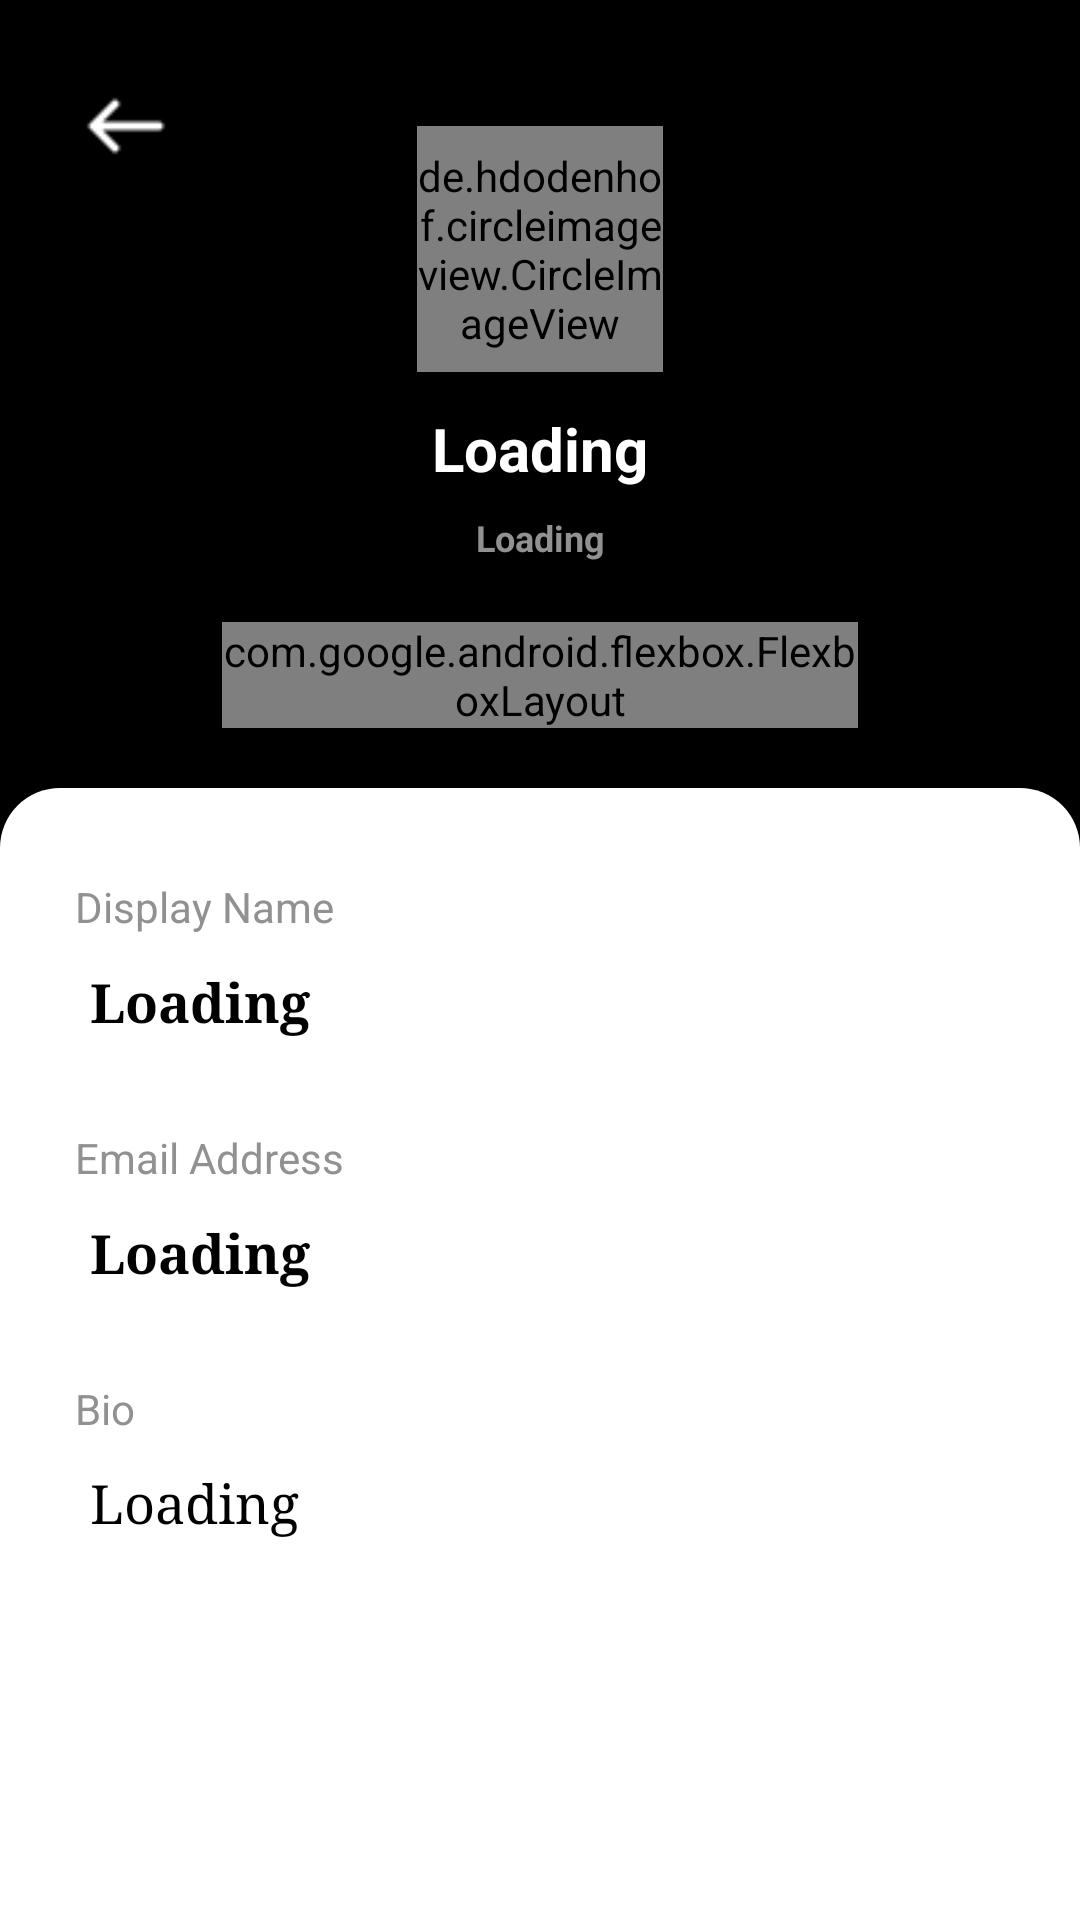

Locate icon controls on the screen. Image size 1080w x 1920h, boxes as detection(x1, y1, x2, y2).
back: detection(87, 98, 165, 154)
